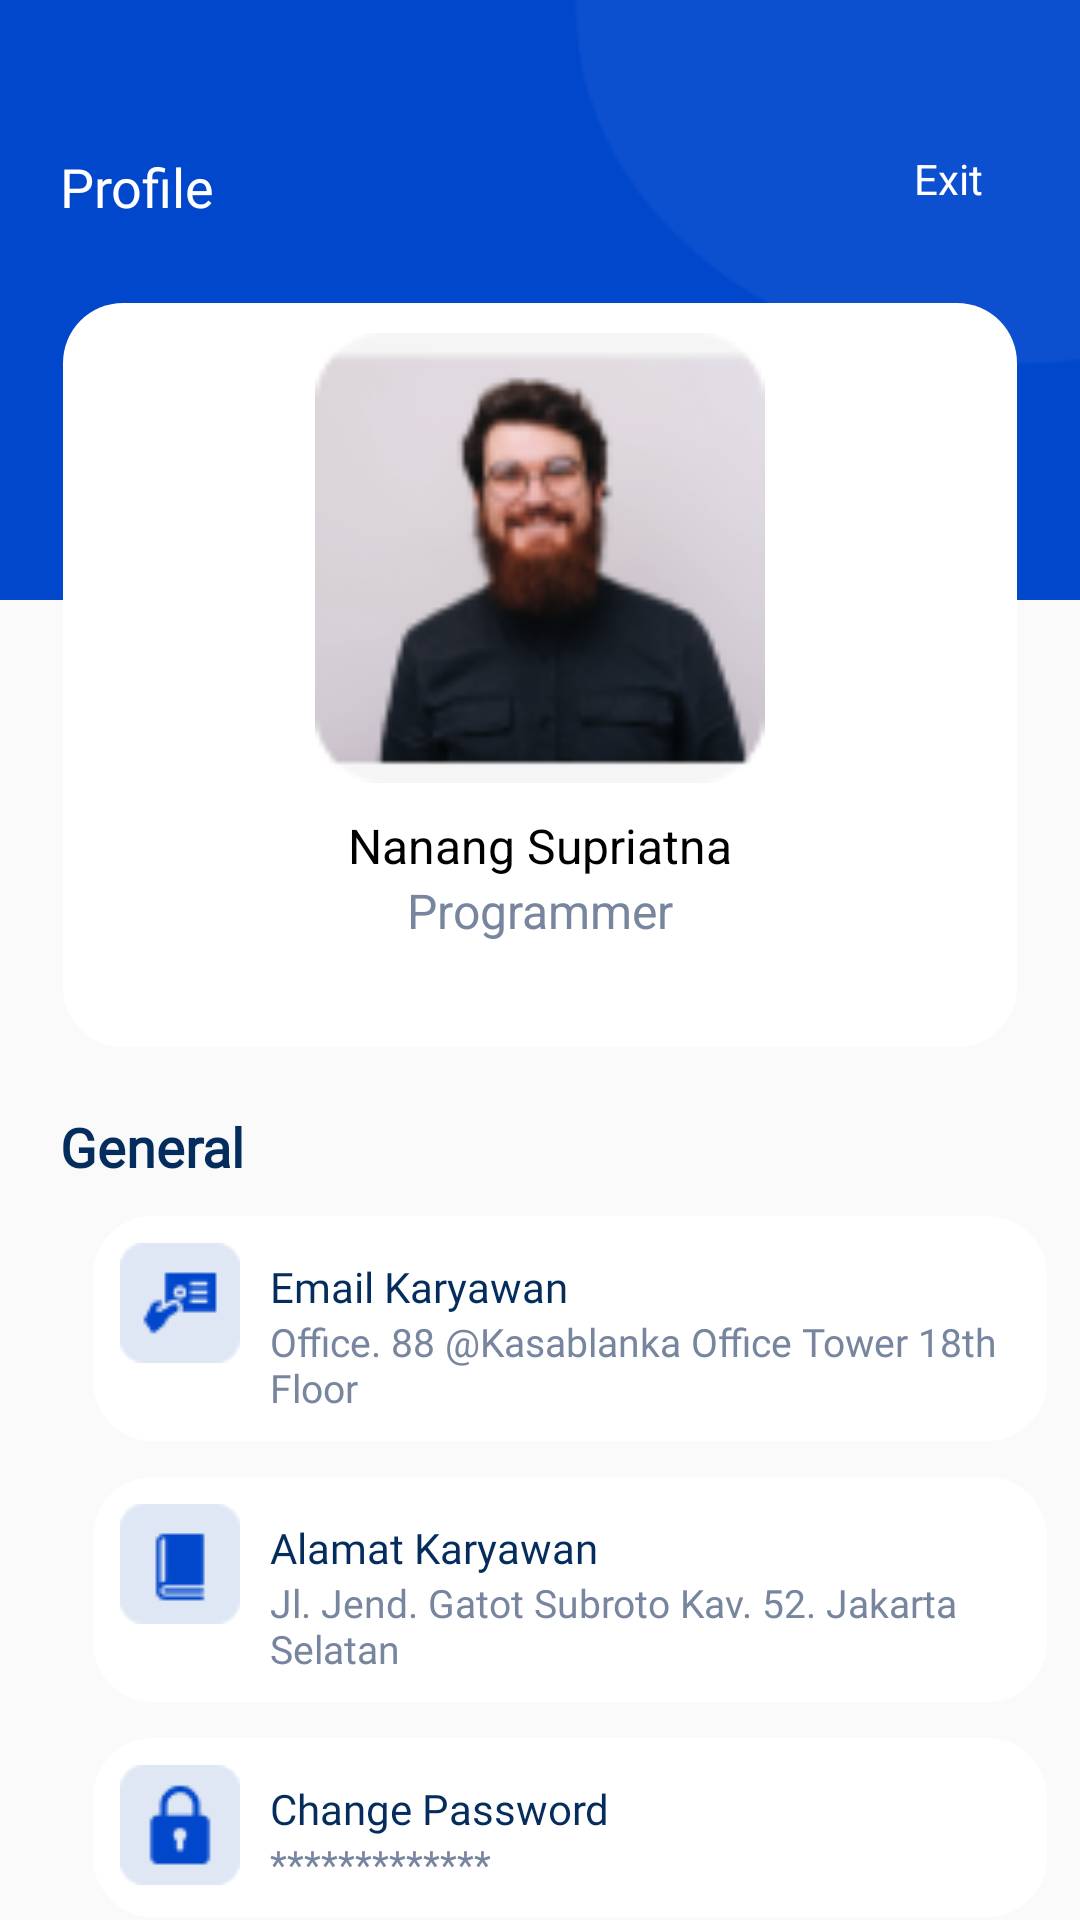

Icon click points for this 1080x1920 phone screenshot, format (x=x, y=y):
profile address: (x=180, y=1564)
